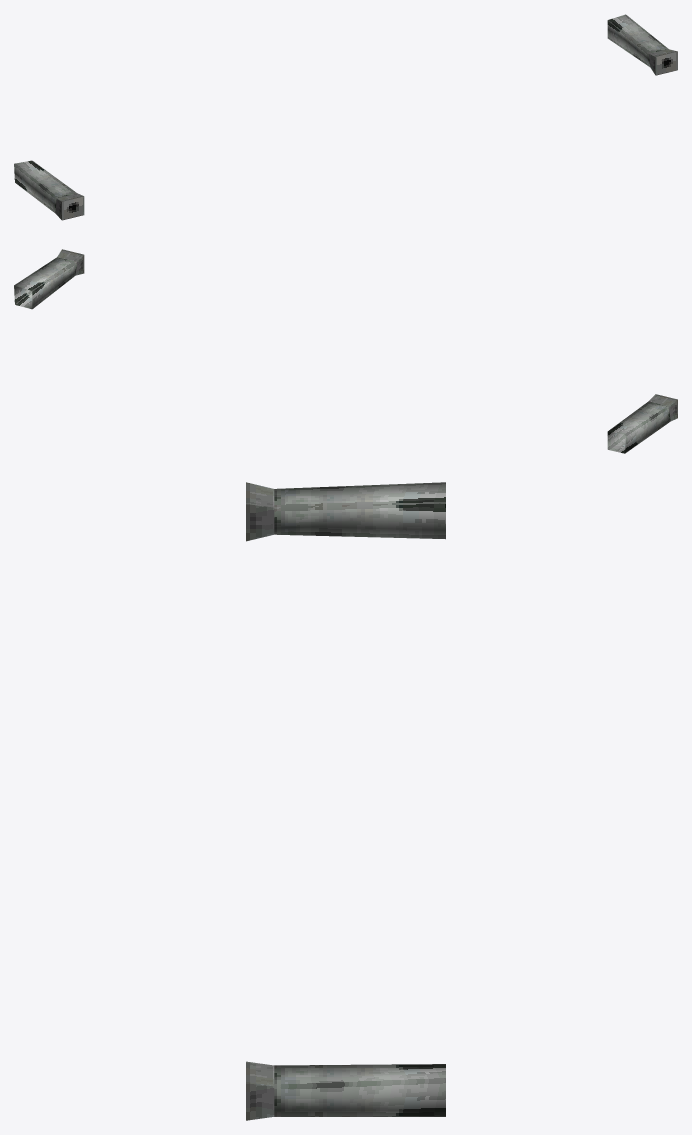
The model's file is black_sun_fighter_light_weapon_s03_l3.fbx.
3 renders of one model, top to bottom at view 1: azimuth 30°, elevation 25°; view 2: azimuth 150°, elevation 25°; view 3: azimuth 270°, elevation 25°, orthographic. The views are drawn at different scales.
Parts seen in each view (by area): view 1: mesh_node; view 2: mesh_node; view 3: mesh_node.
Part boxes in pixels (x1,y1,x2,y2): mesh_node: [14, 14, 677, 220]; mesh_node: [14, 249, 677, 453]; mesh_node: [246, 482, 445, 1120].
Size of the model in its own units: 11.42 by 0.3483 by 1.61.
